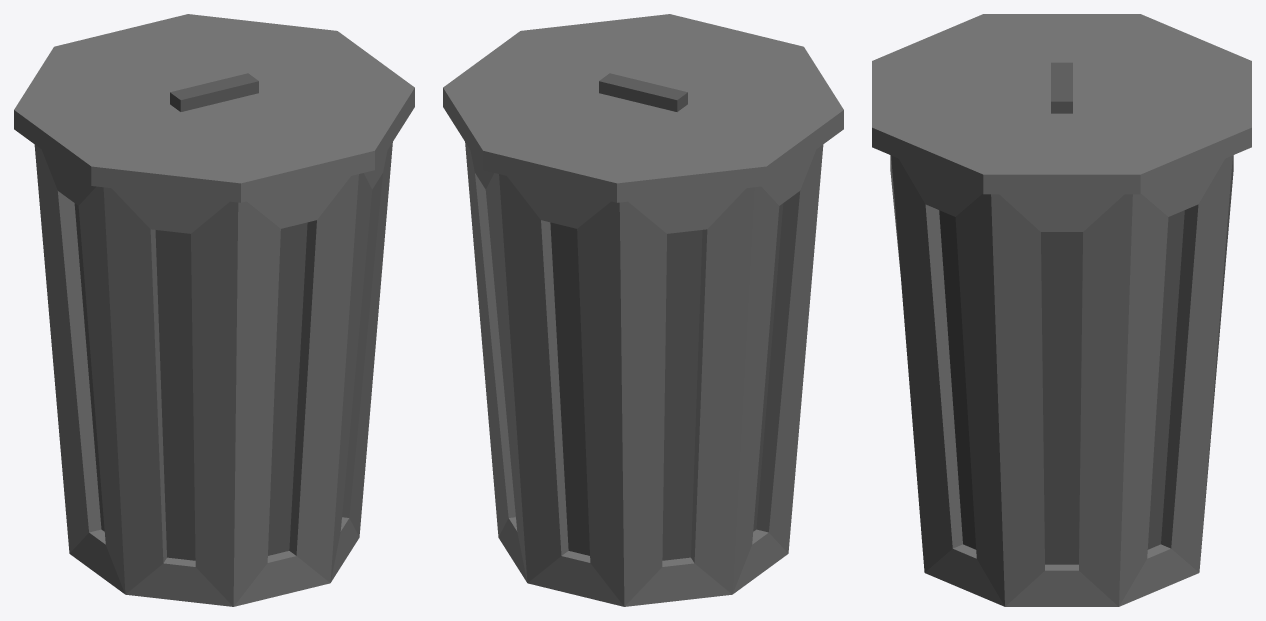
The model's file is Trash_Small.fbx.
The picture shows the model from 3 angles, left to right: view 1: azimuth 30°, elevation 25°; view 2: azimuth 150°, elevation 25°; view 3: azimuth 270°, elevation 25°; orthographic projection.
Visible parts, largest first — view 1: Trash_Small; view 2: Trash_Small; view 3: Trash_Small.
Part boxes in pixels (x1,y1,x2,y2): Trash_Small: [14, 14, 414, 606]; Trash_Small: [443, 14, 843, 606]; Trash_Small: [872, 14, 1251, 606].
Bounding box in the file's own units: 1 × 1.36 × 1.
1 material, 1 textured.
